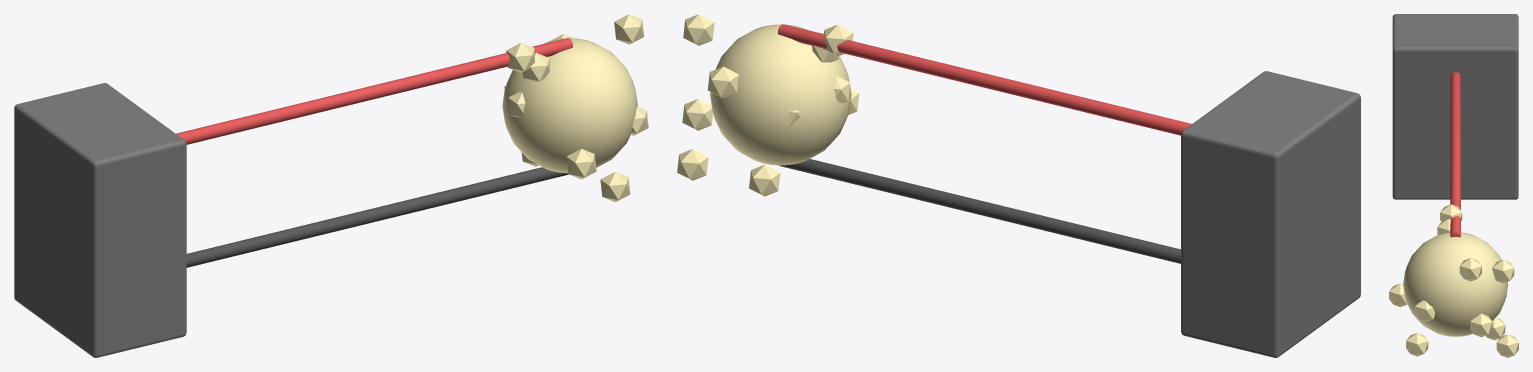
The model's file is ohm_law_v1.glb.
The picture shows the model from 3 angles, left to right: view 1: azimuth 30°, elevation 25°; view 2: azimuth 150°, elevation 25°; view 3: azimuth 270°, elevation 25°; orthographic projection. The views are drawn at different scales.
Parts seen in each view (by area): view 1: battery, bulb, wire_2, wire_1, bulb__shattered__00, bulb__shattered__08, bulb__shattered__06, bulb__shattered__01, bulb__shattered__04; view 2: battery, bulb, wire_1, wire_2, bulb__shattered__03, bulb__shattered__06, bulb__shattered__10, bulb__shattered__11, bulb__shattered__05, bulb__shattered__01; view 3: battery, bulb, wire_1, bulb__shattered__03, bulb__shattered__05, bulb__shattered__06, bulb__shattered__00, bulb__shattered__11, bulb__shattered__02, bulb__shattered__08, bulb__shattered__10, bulb__shattered__01 (+1 smaller).
Boxes of the visible parts, box(x1,y1,x2,y2) form: battery: box(14, 83, 186, 357); bulb: box(502, 38, 637, 173); wire_2: box(186, 167, 568, 267); wire_1: box(176, 38, 572, 144); bulb__shattered__00: box(600, 171, 630, 202); bulb__shattered__08: box(566, 148, 596, 179); bulb__shattered__06: box(614, 14, 644, 44); bulb__shattered__01: box(506, 42, 535, 72); bulb__shattered__04: box(522, 53, 549, 81); battery: box(1181, 71, 1360, 357); bulb: box(710, 24, 851, 165); wire_1: box(778, 24, 1191, 135); wire_2: box(779, 159, 1180, 263); bulb__shattered__03: box(677, 149, 708, 180); bulb__shattered__06: box(683, 14, 714, 45); bulb__shattered__10: box(749, 164, 780, 196); bulb__shattered__11: box(707, 66, 738, 98); bulb__shattered__05: box(682, 99, 712, 130); bulb__shattered__01: box(822, 24, 853, 56); battery: box(1392, 14, 1518, 199); bulb: box(1403, 232, 1508, 336); wire_1: box(1450, 72, 1460, 237); bulb__shattered__03: box(1496, 334, 1518, 357); bulb__shattered__05: box(1470, 313, 1492, 337); bulb__shattered__06: box(1459, 258, 1481, 281); bulb__shattered__00: box(1406, 333, 1428, 356); bulb__shattered__11: box(1492, 259, 1514, 283); bulb__shattered__02: box(1415, 300, 1434, 321); bulb__shattered__08: box(1389, 283, 1407, 307); bulb__shattered__10: box(1486, 317, 1505, 340); bulb__shattered__01: box(1440, 204, 1462, 221).
Size of the model in its own units: 5.1 by 1.6 by 1.24.
